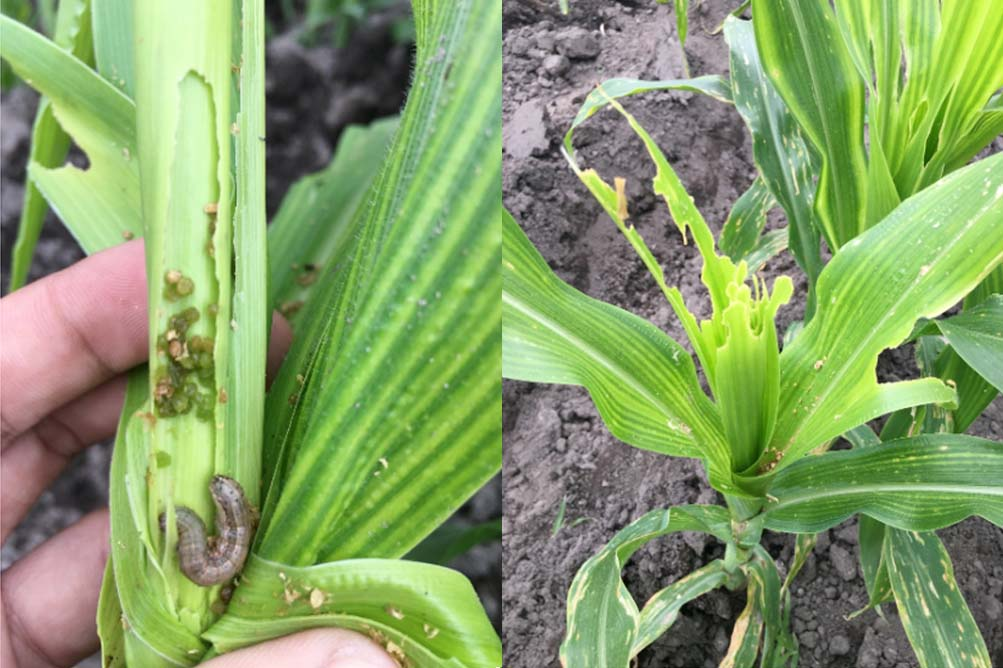Armyworm: (157, 463, 278, 604)
